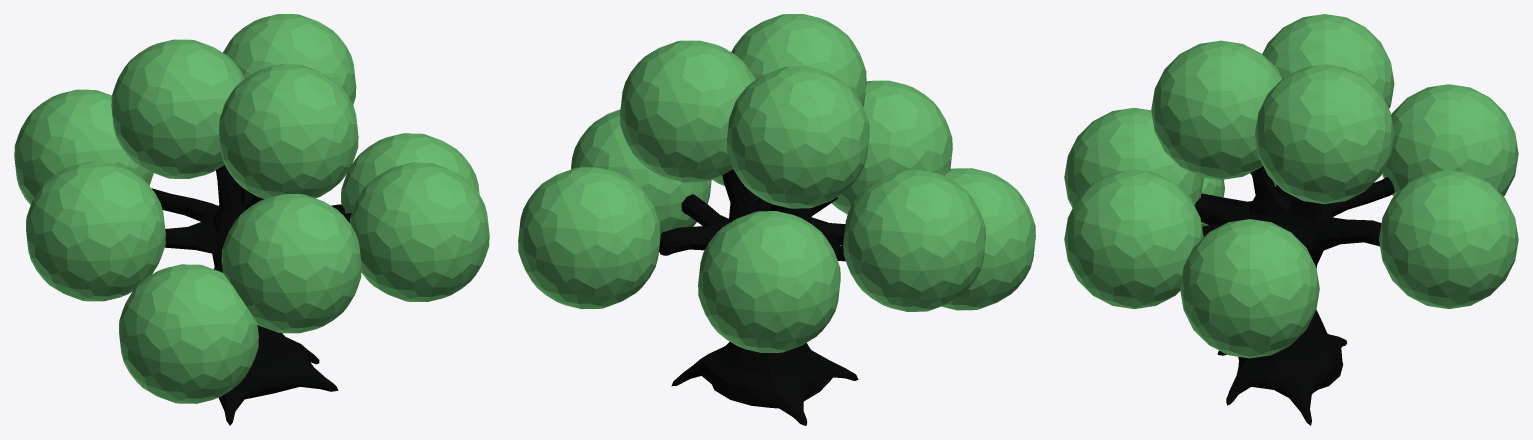
Rendered from arvoreverde-ultima.fbx.
3 views of the same model, side by side, from view 1: azimuth 30°, elevation 25°; view 2: azimuth 150°, elevation 25°; view 3: azimuth 270°, elevation 25° (orthographic). The views are drawn at different scales.
Parts seen in each view (by area): view 1: Cube; view 2: Cube; view 3: Cube.
Part boxes in pixels (x1,y1,x2,y2): Cube: (14,14,489,425); Cube: (518,14,1035,425); Cube: (1064,14,1518,425).
Bounding box in the file's own units: 483 × 385 × 463.
